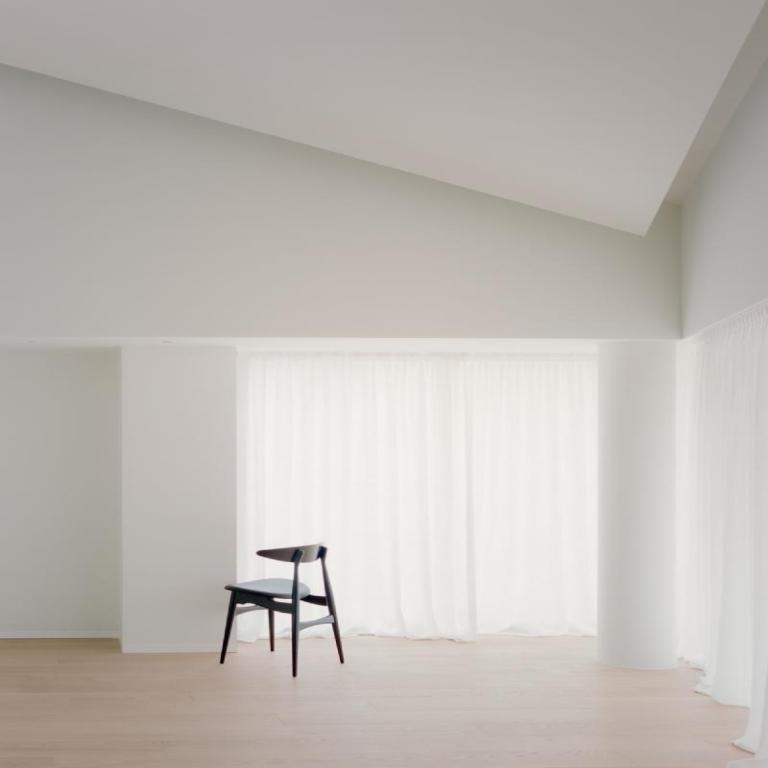white-walls: (42, 14, 761, 312)
